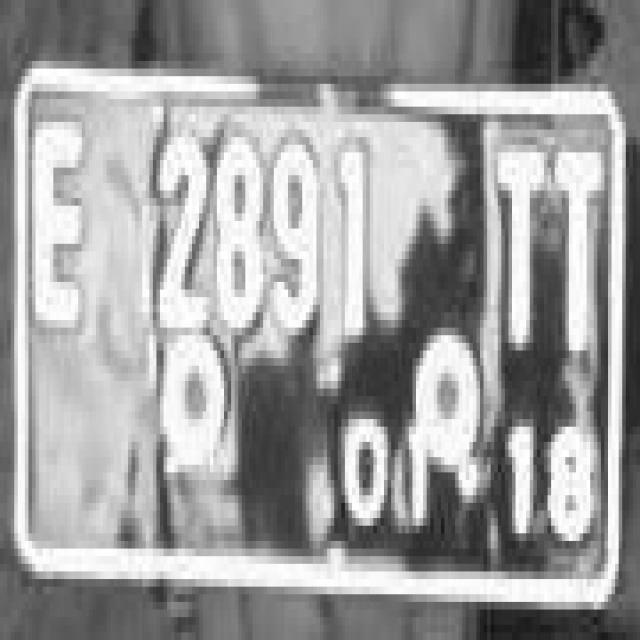1: (326, 140, 384, 342)
2: (153, 145, 213, 338)
8: (213, 133, 261, 333)
9: (260, 141, 326, 333)
E: (31, 118, 82, 327)
T: (490, 143, 552, 344), (550, 147, 606, 343)
